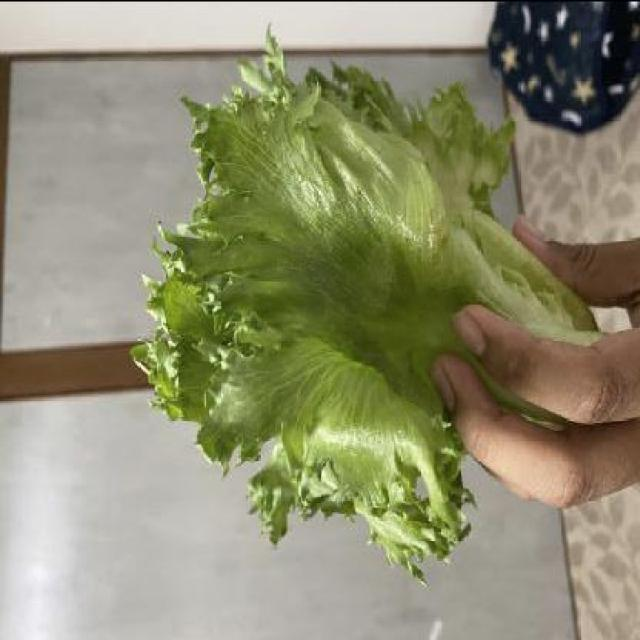Lettuce: (135, 27, 600, 578)
